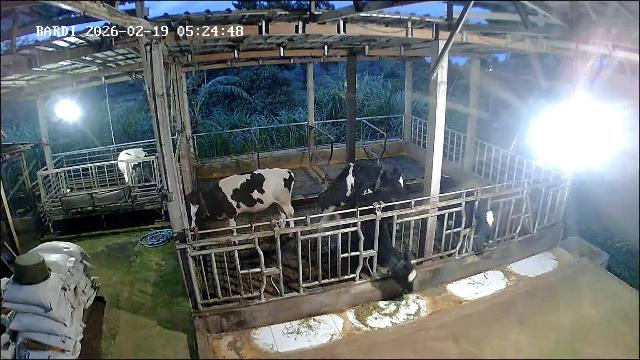mounting: (314, 160, 405, 251)
